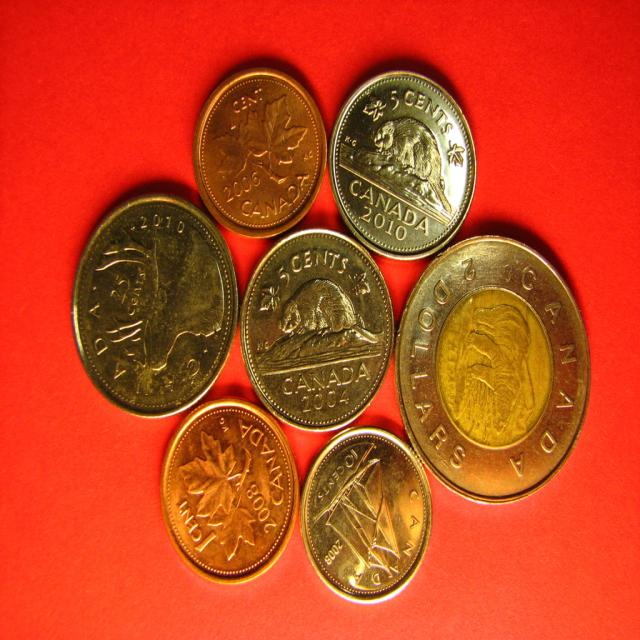Coin: (395, 235, 592, 500), (70, 197, 236, 420), (238, 225, 395, 433), (332, 69, 480, 261), (158, 397, 301, 587), (300, 423, 433, 606), (195, 68, 330, 241)
